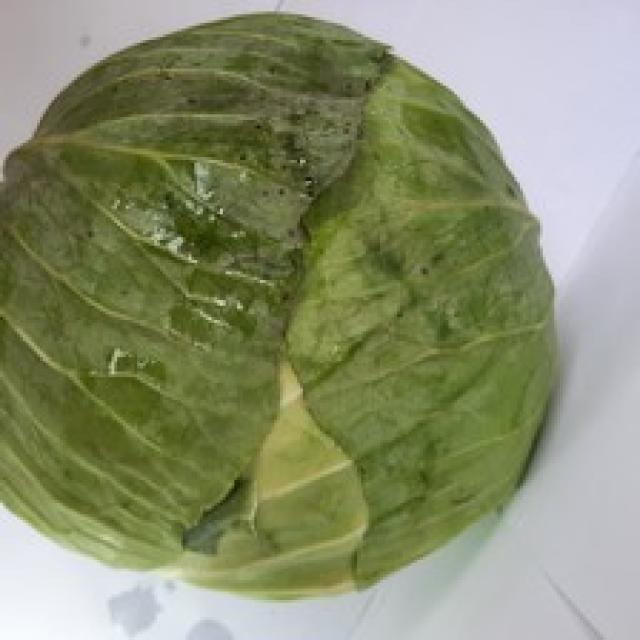Cabbage: (0, 6, 560, 600)
